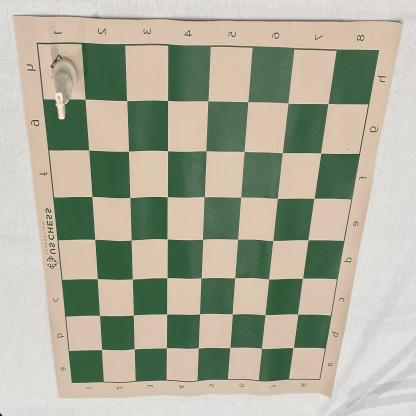white-knight: (52, 57, 79, 119)
